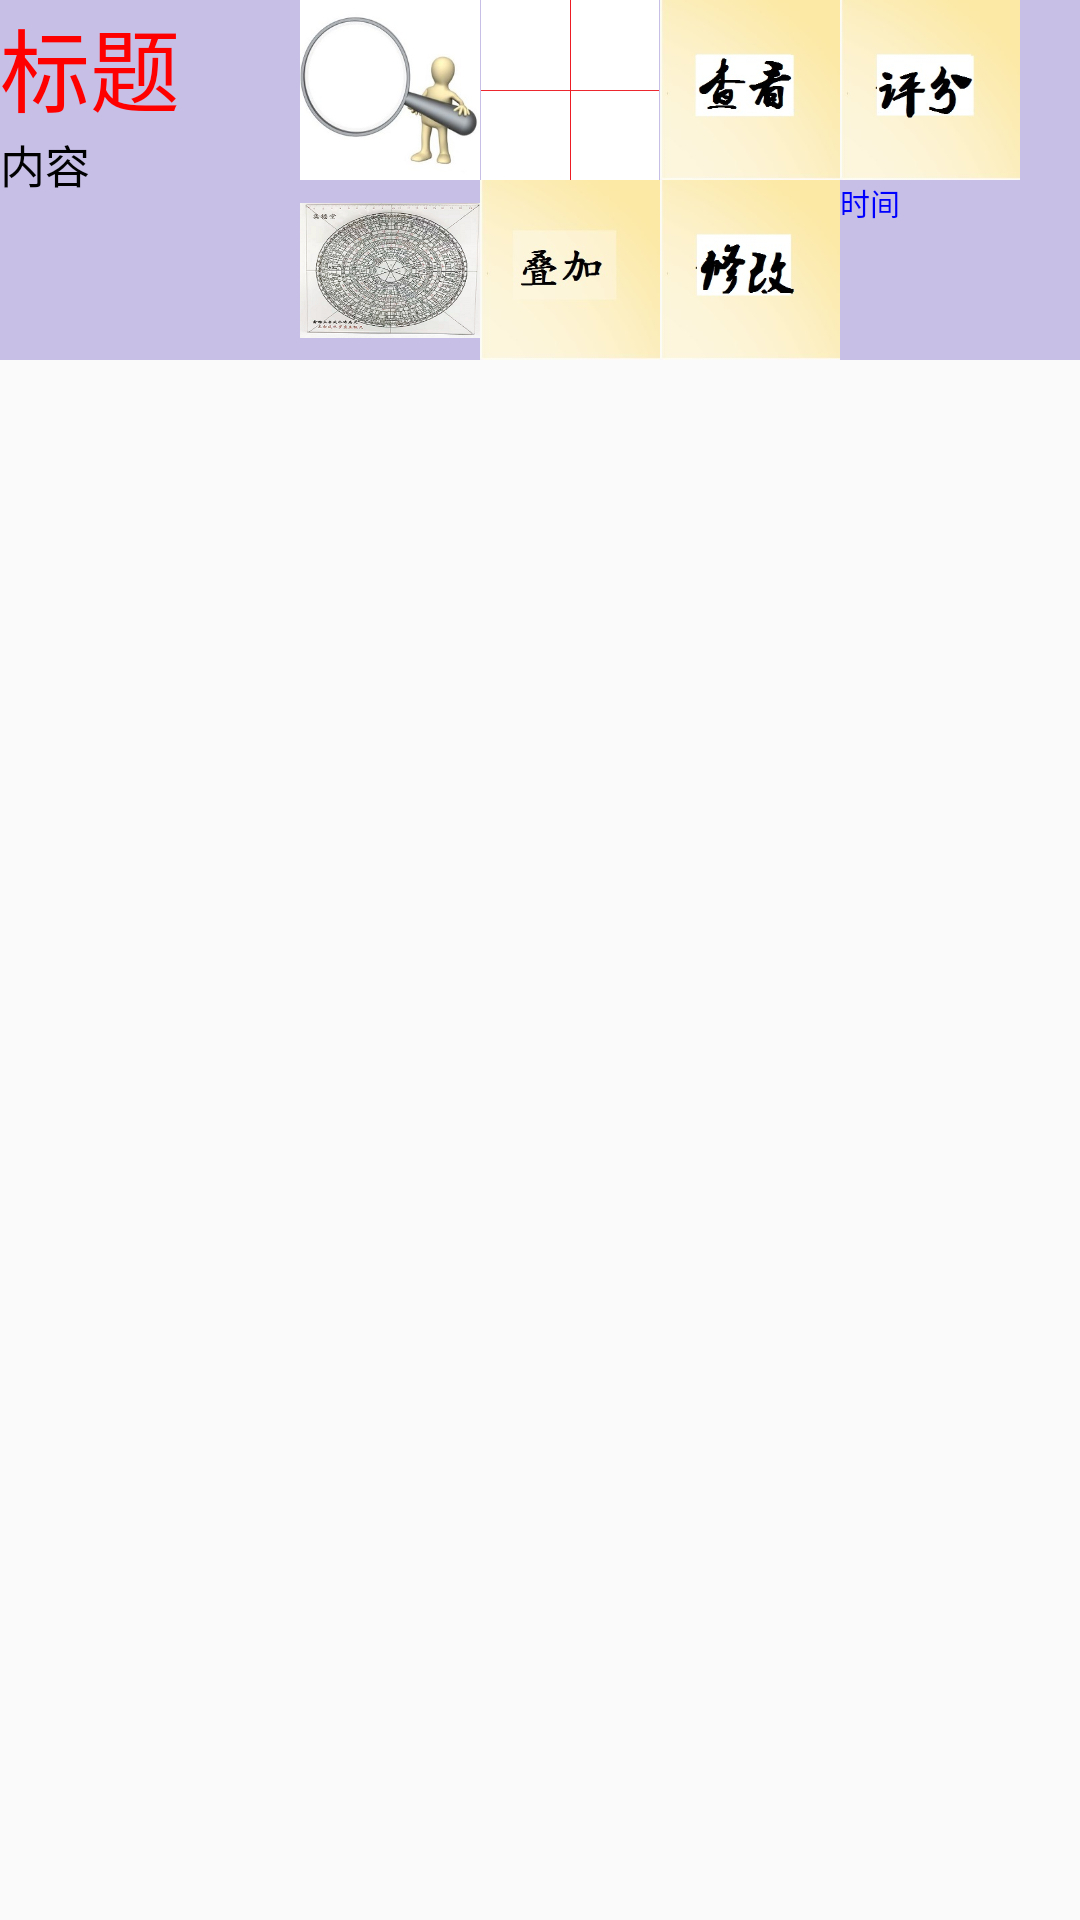

Screen size 1080w x 1920h. Icon name, then its center in pixels as (x,y):
cross: (570,90)
